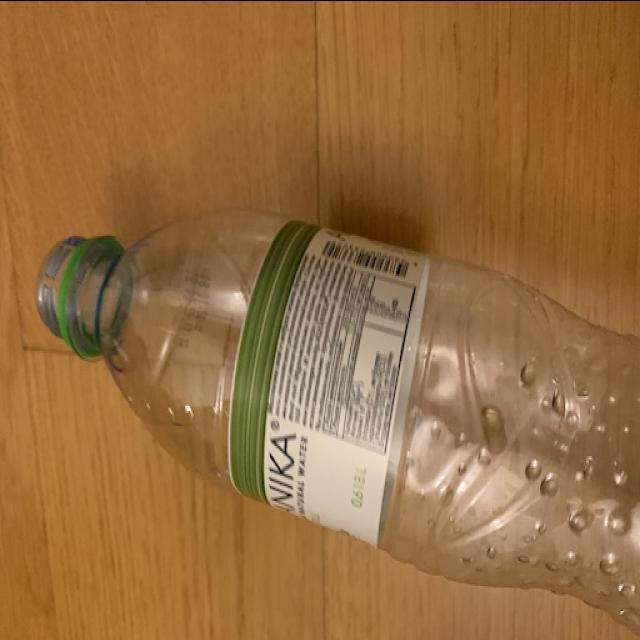PET: (26, 170, 630, 640)
